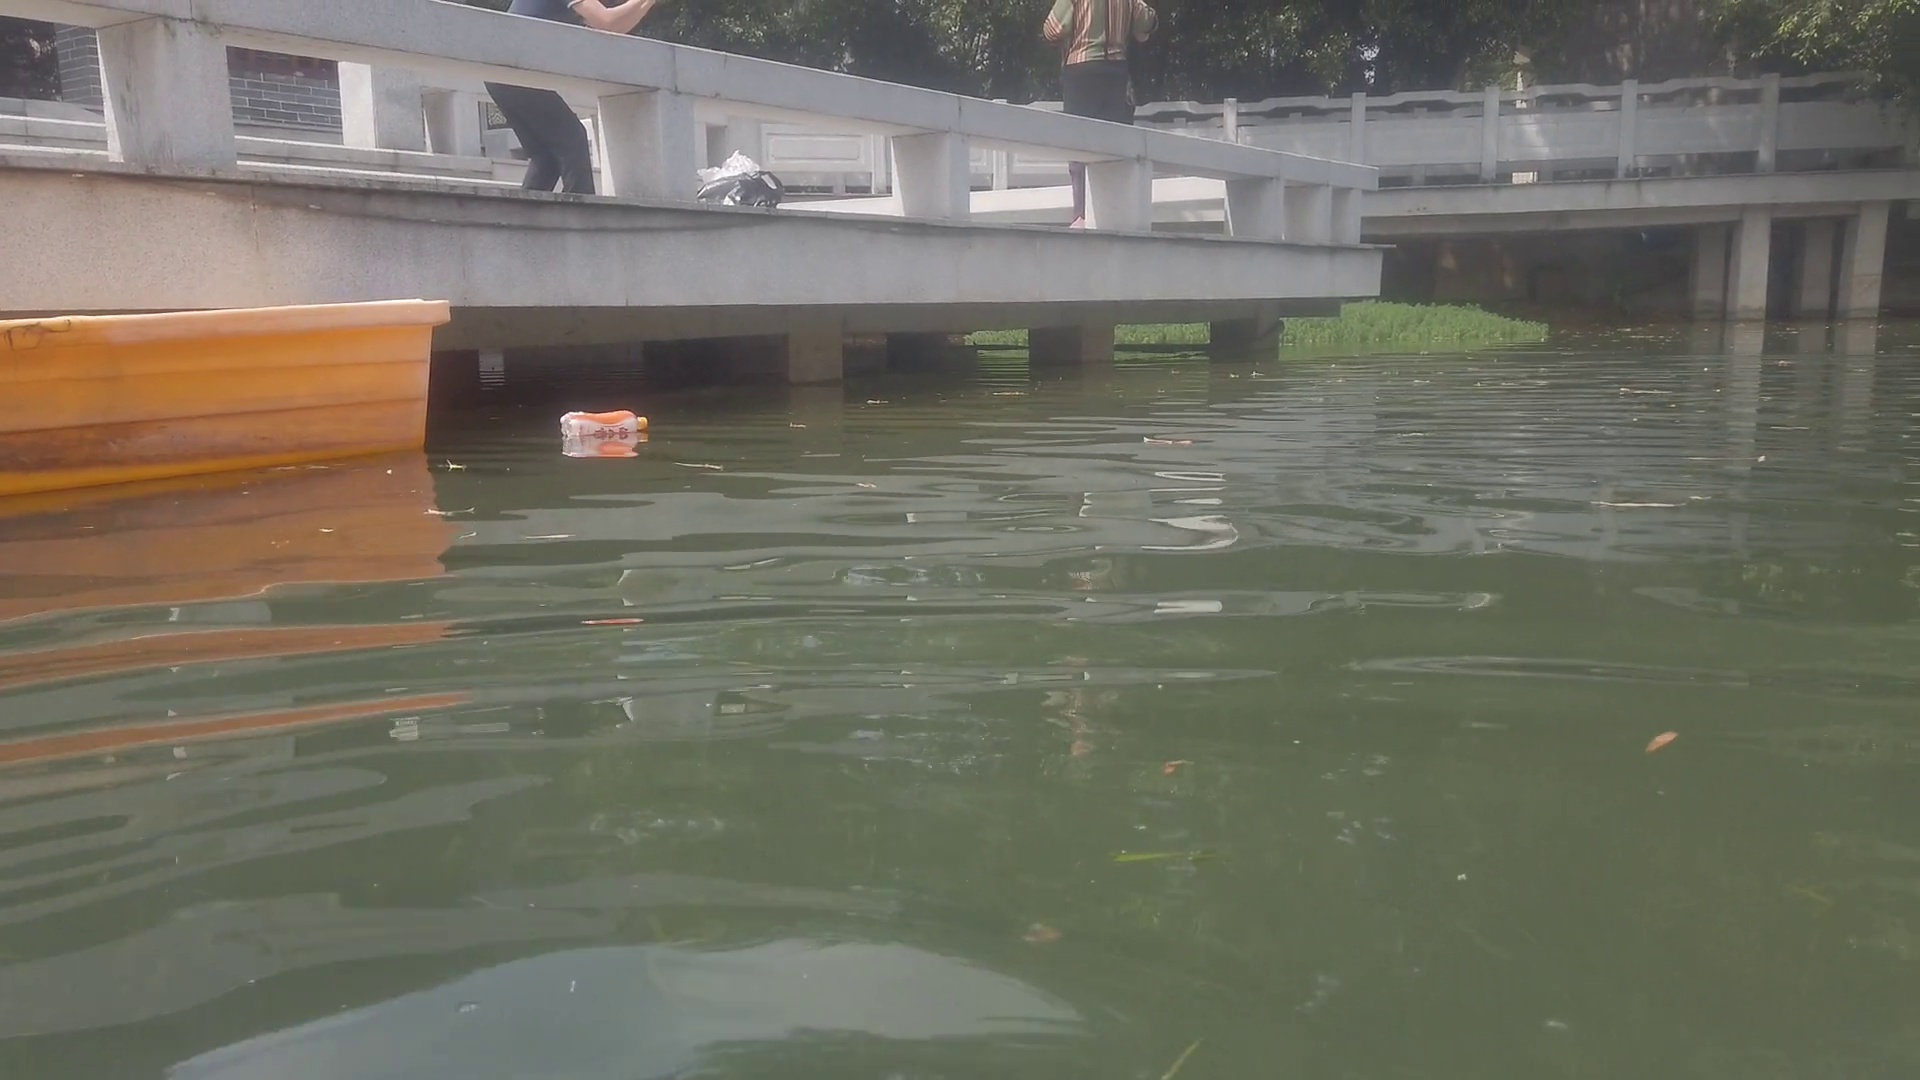bottle: (559, 407, 646, 436)
